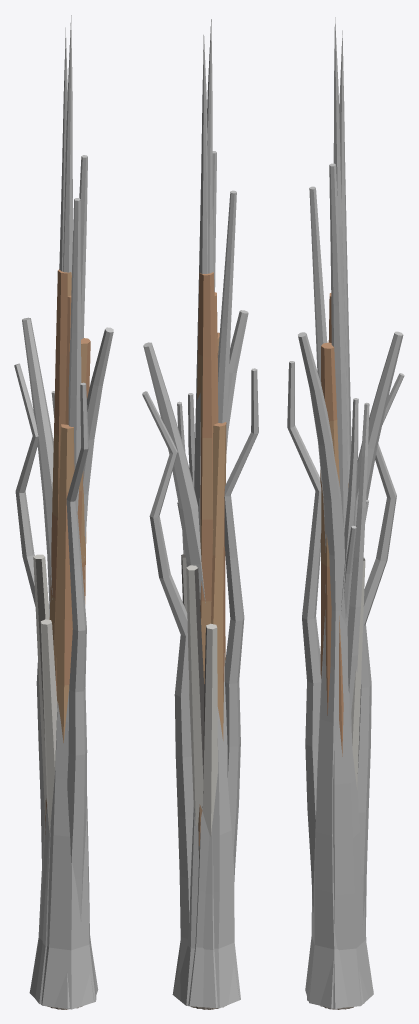
Rendered from stumps.glb.
The picture shows the model from 3 angles, left to right: view 1: azimuth 90°, elevation 25°; view 2: azimuth 150°, elevation 25°; view 3: azimuth 330°, elevation 25°; orthographic projection.
Visible parts, largest first — view 1: ScotsPine_B_trunk, Alder_A_trunk, ScotsPine_A_trunk, Pine3_trunk, Pine2_trunk, Alder_B_trunk, Aspen_B_trunk, Birch2_trunk, NorwaySpruce_B_trunk, Birch1_trunk, Pine5_trunk, Aspen_A_trunk (+2 smaller); view 2: ScotsPine_B_trunk, ScotsPine_A_trunk, Alder_B_trunk, Alder_A_trunk, Pine2_trunk, Pine3_trunk, Birch1_trunk, Birch2_trunk, NorwaySpruce_A_trunk, Aspen_B_trunk, NorwaySpruce_B_trunk, SilverBirch_A_trunk (+2 smaller); view 3: ScotsPine_B_trunk, ScotsPine_A_trunk, Alder_A_trunk, Alder_B_trunk, Aspen_A_trunk, Pine5_trunk, SilverBirch_B_trunk, NorwaySpruce_A_trunk, Aspen_B_trunk, NorwaySpruce_B_trunk, SilverBirch_A_trunk, Birch0_trunk (+1 smaller).
Boxes of the visible parts, x1,y1,x2,y2 form: ScotsPine_B_trunk: (29,327,113,1009); Alder_A_trunk: (66,382,88,921); ScotsPine_A_trunk: (22,317,97,1008); Pine3_trunk: (54,424,81,1009); Pine2_trunk: (45,269,71,1008); Alder_B_trunk: (14,363,49,864); Aspen_B_trunk: (68,198,81,511); Birch2_trunk: (40,619,57,832); NorwaySpruce_B_trunk: (63,15,72,274); Birch1_trunk: (33,554,49,816); Pine5_trunk: (55,338,90,1009); Aspen_A_trunk: (79,155,87,339); ScotsPine_B_trunk: (173,310,248,1008); ScotsPine_A_trunk: (143,342,239,1007); Alder_B_trunk: (142,391,193,974); Alder_A_trunk: (224,368,258,881); Pine2_trunk: (196,272,218,1008); Pine3_trunk: (190,422,226,1009); Birch1_trunk: (186,565,204,825); Birch2_trunk: (202,623,217,836); NorwaySpruce_A_trunk: (194,35,207,537); Aspen_B_trunk: (218,190,236,440); NorwaySpruce_B_trunk: (207,19,213,273); SilverBirch_A_trunk: (188,393,194,486); ScotsPine_B_trunk: (298,332,368,1008); ScotsPine_A_trunk: (307,331,403,1008); Alder_A_trunk: (287,361,321,912); Alder_B_trunk: (357,373,404,940); Aspen_A_trunk: (329,163,348,531); Pine5_trunk: (320,342,347,1009); SilverBirch_B_trunk: (347,402,369,711); NorwaySpruce_A_trunk: (339,30,351,483); Aspen_B_trunk: (309,186,327,481); NorwaySpruce_B_trunk: (333,17,348,484); SilverBirch_A_trunk: (341,398,358,625); Birch0_trunk: (351,558,365,789).
Size of the model in its own units: 1.5 by 16.55 by 1.52.
